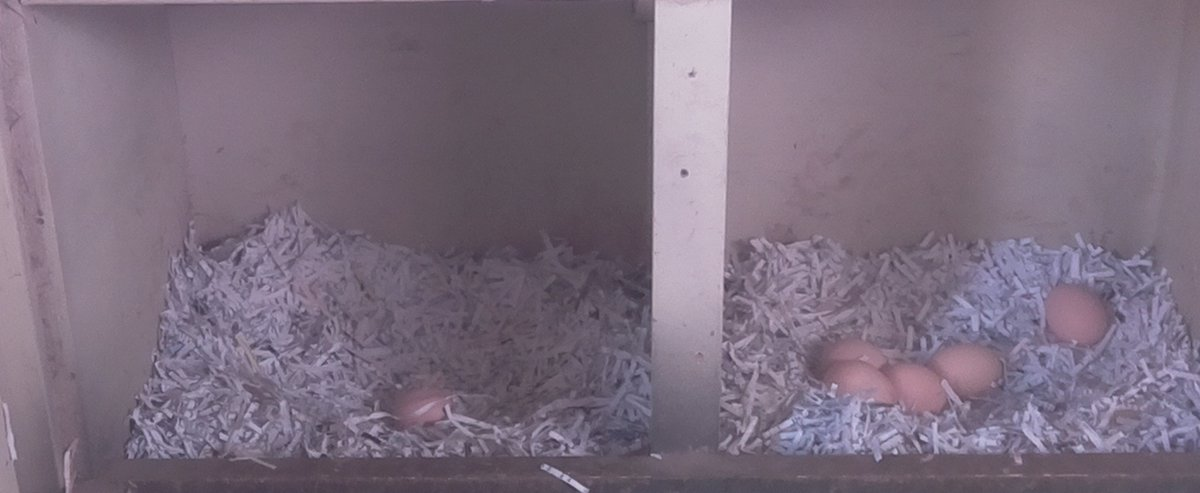egg: (1042, 280, 1112, 353), (381, 380, 470, 434), (930, 340, 1006, 403), (822, 355, 901, 415), (879, 358, 950, 423), (812, 334, 888, 383)
